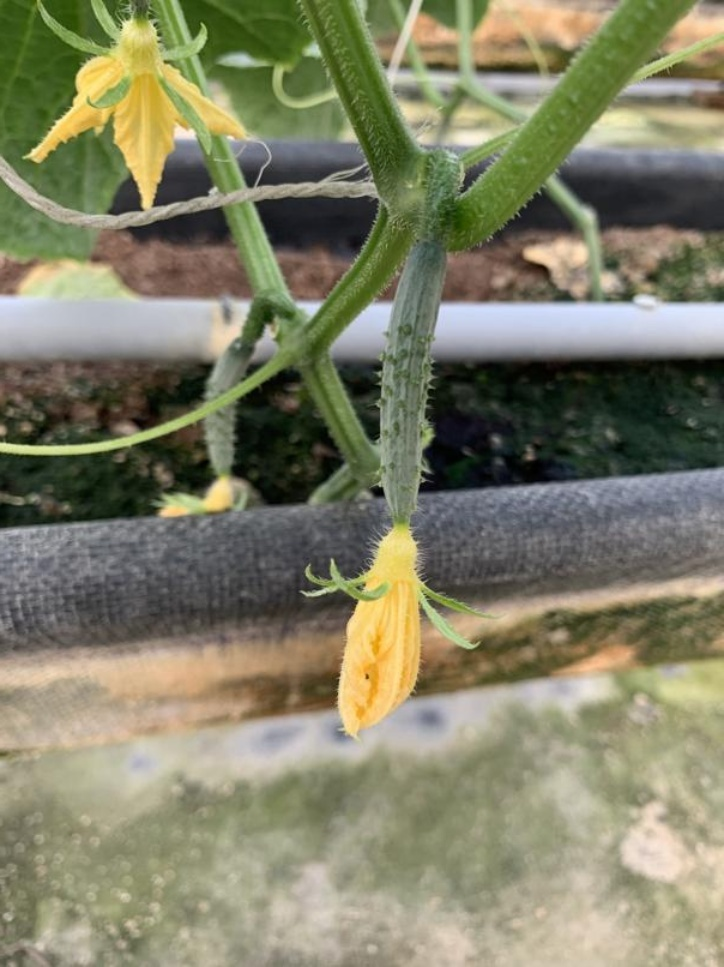bear: (325, 229, 471, 734)
